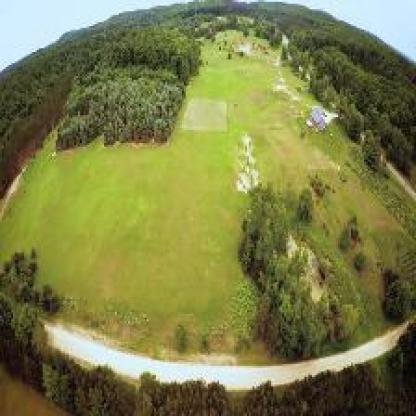other: (29, 306, 391, 386)
